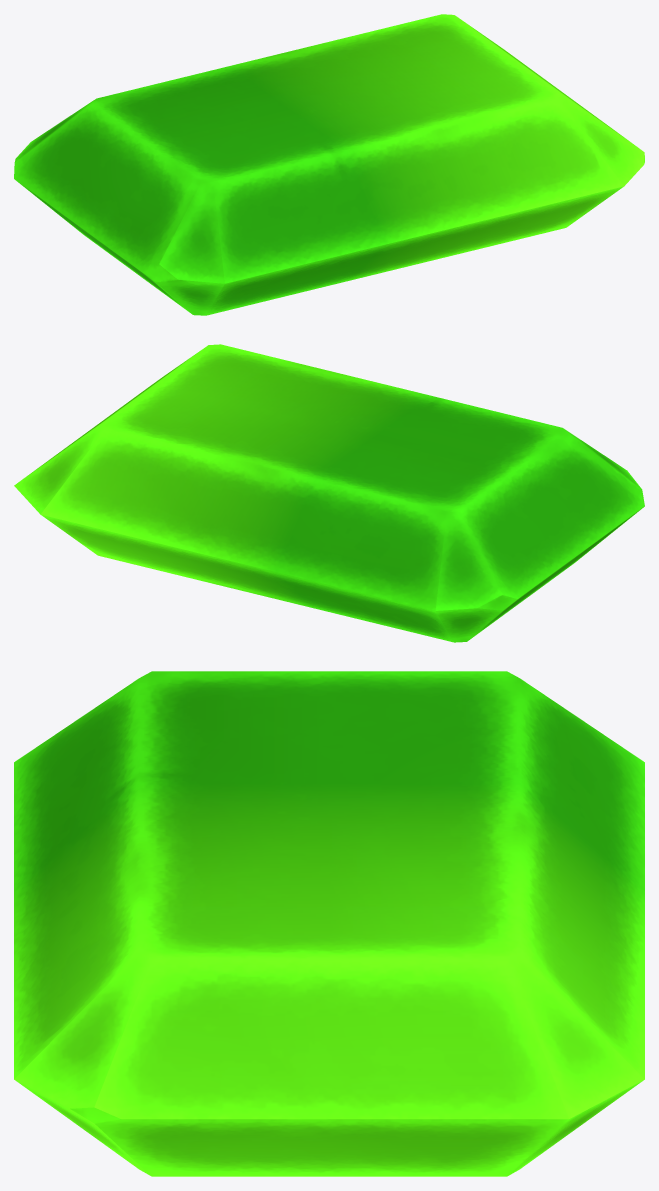
File: SM_Gem_Shape_3.fbx
3 renders of one model, top to bottom at view 1: azimuth 30°, elevation 25°; view 2: azimuth 150°, elevation 25°; view 3: azimuth 270°, elevation 25°, orthographic. The views are drawn at different scales.
Parts seen in each view (by area): view 1: SM_Gem_Shape_3_LOD0; view 2: SM_Gem_Shape_3_LOD0; view 3: SM_Gem_Shape_3_LOD0.
Part boxes in pixels (box(x1,y1,x2,y2)): SM_Gem_Shape_3_LOD0: box(14, 14, 644, 315); SM_Gem_Shape_3_LOD0: box(14, 344, 644, 642); SM_Gem_Shape_3_LOD0: box(14, 671, 644, 1176).
Size of the model in its own units: 22.49 by 15.12 by 5.58.
Materials: 1 (1 with a texture image).
